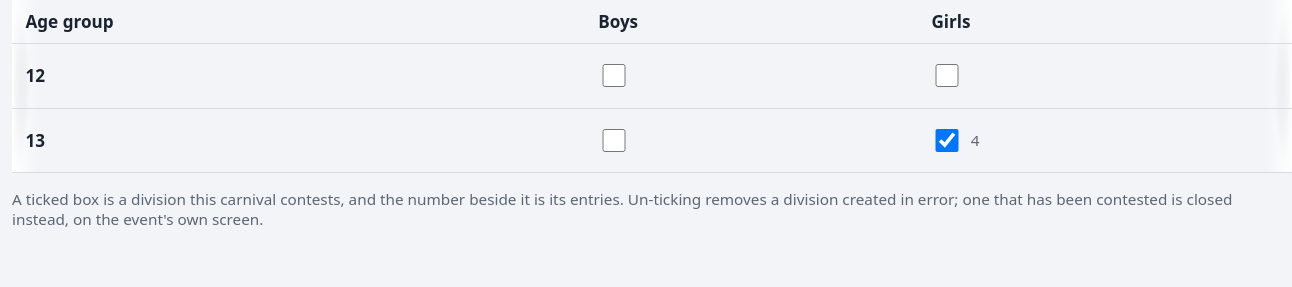
Test: DivisionGrid — live › says nothing was saved when the un-tick never reaches the server
The image size is (1292, 287).
Click the checkbox named "13 · Girls".
click(947, 140)  # box [935, 129, 959, 152]
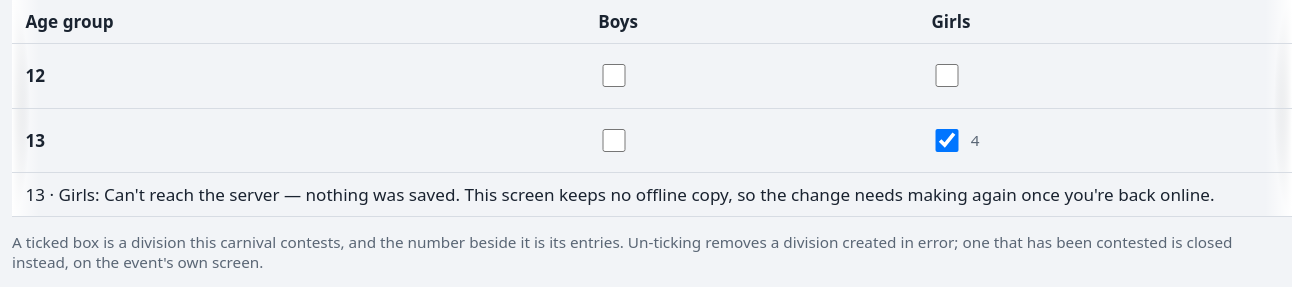
Expected: the message shows "nothing was saved", [26, 183, 1215, 206]
